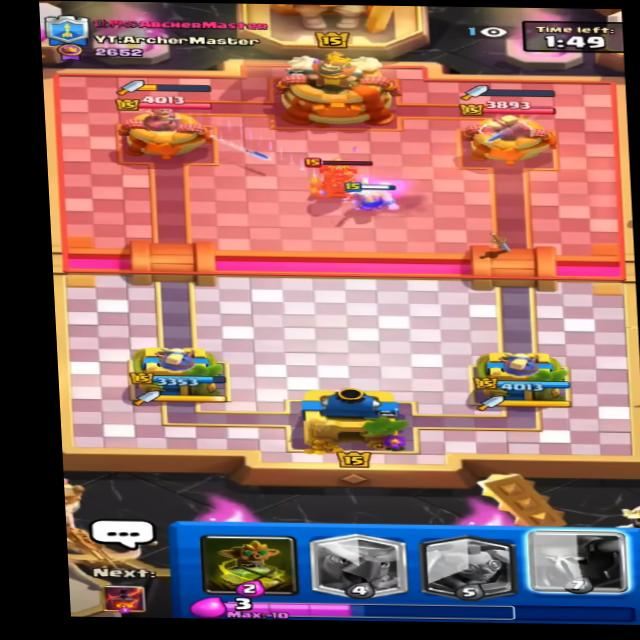tesla: (297, 156, 380, 206)
